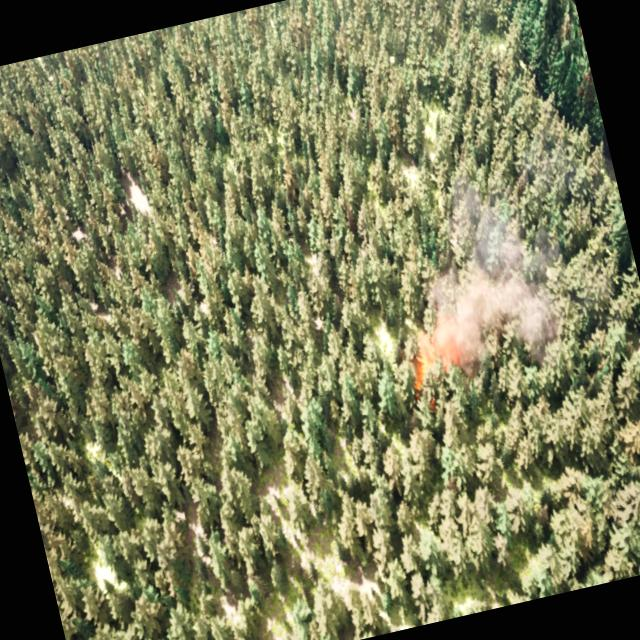fire: (406, 350, 446, 394)
smoke: (397, 186, 568, 382)
